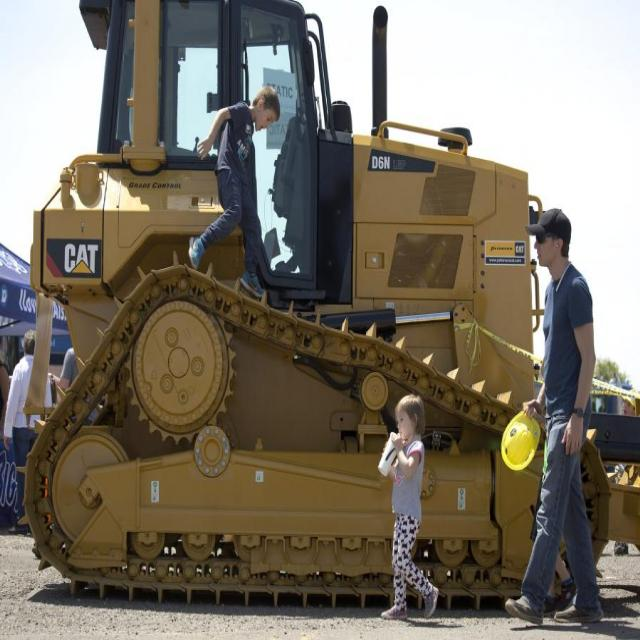Bulldozer: (13, 0, 634, 626)
